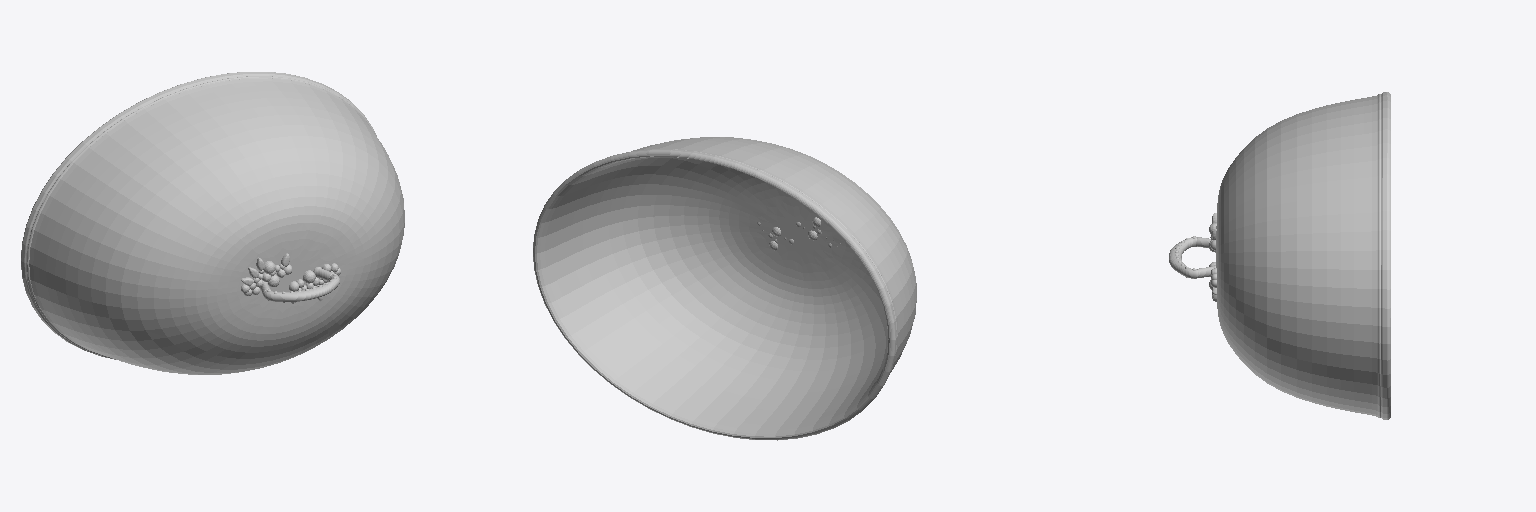
The model's file is cloche_top.obj.
3 renders of one model, left to right at view 1: azimuth 30°, elevation 25°; view 2: azimuth 150°, elevation 25°; view 3: azimuth 270°, elevation 25°, orthographic.
Visible parts, largest first — view 1: 17125_CoveredServingPlatter_v1.264; view 2: 17125_CoveredServingPlatter_v1.264; view 3: 17125_CoveredServingPlatter_v1.264.
Part boxes in pixels (left/top/right/bottom): 17125_CoveredServingPlatter_v1.264: left=21, top=72, right=404, bottom=374; 17125_CoveredServingPlatter_v1.264: left=533, top=137, right=916, bottom=440; 17125_CoveredServingPlatter_v1.264: left=1169, top=92, right=1390, bottom=419.
Size of the model in its own units: 38.56 by 28.12 by 20.53.